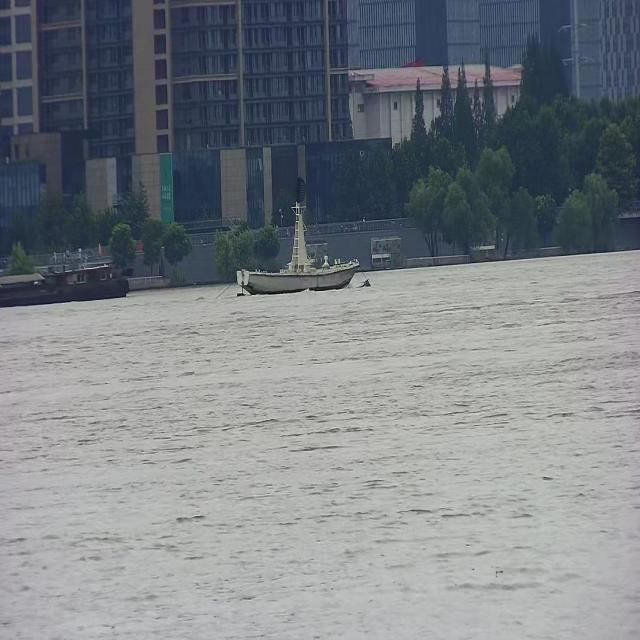CIV_Ship: (235, 202, 360, 294)
